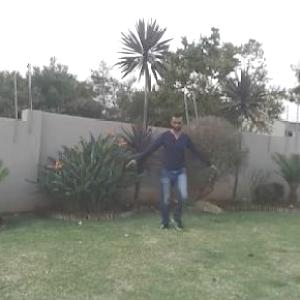land: (117, 106, 216, 231)
